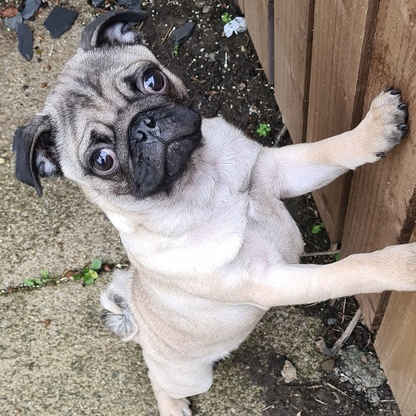Pug: (7, 3, 416, 416)
